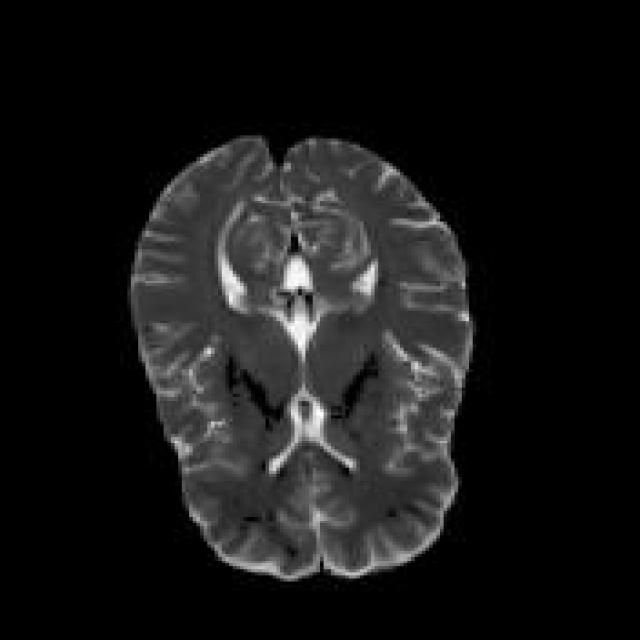parkinson: (127, 129, 473, 582)
